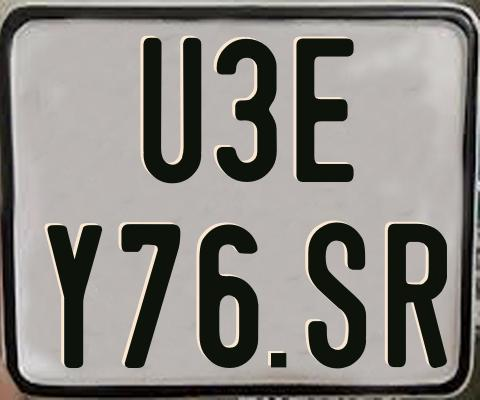3: (215, 36, 281, 182)
6: (197, 222, 263, 372)
7: (118, 224, 180, 373)
E: (294, 36, 356, 185)
R: (385, 224, 444, 371)
S: (308, 221, 367, 369)
U: (141, 37, 203, 186)
Y: (45, 225, 100, 374)
